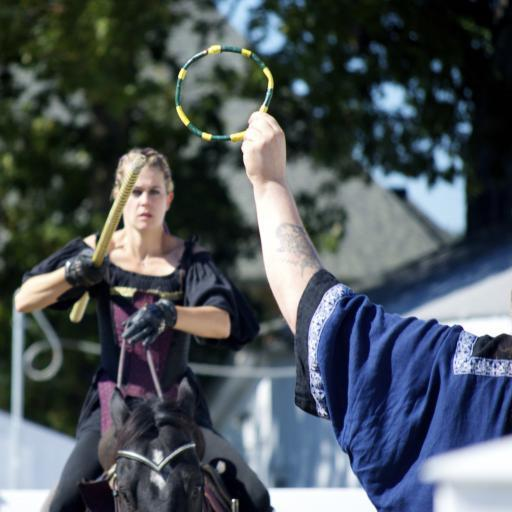horse: (76, 374, 236, 512)
